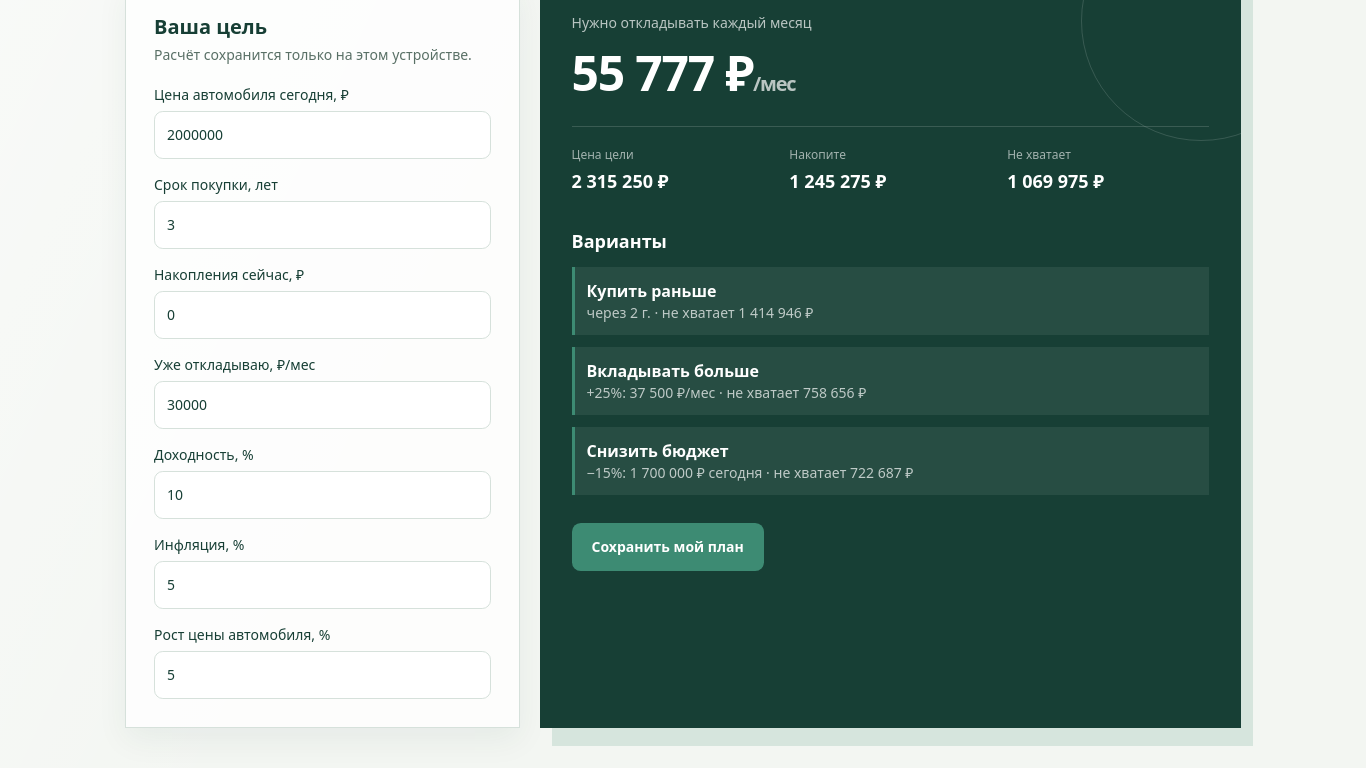
CarGoalWorkspace › keeps price growth tied to inflation until edited manually
(page scrolled)
Replace the text in the number field labelled "Инфляция, %" with "7" at point(322, 585), box [154,561,490,609]
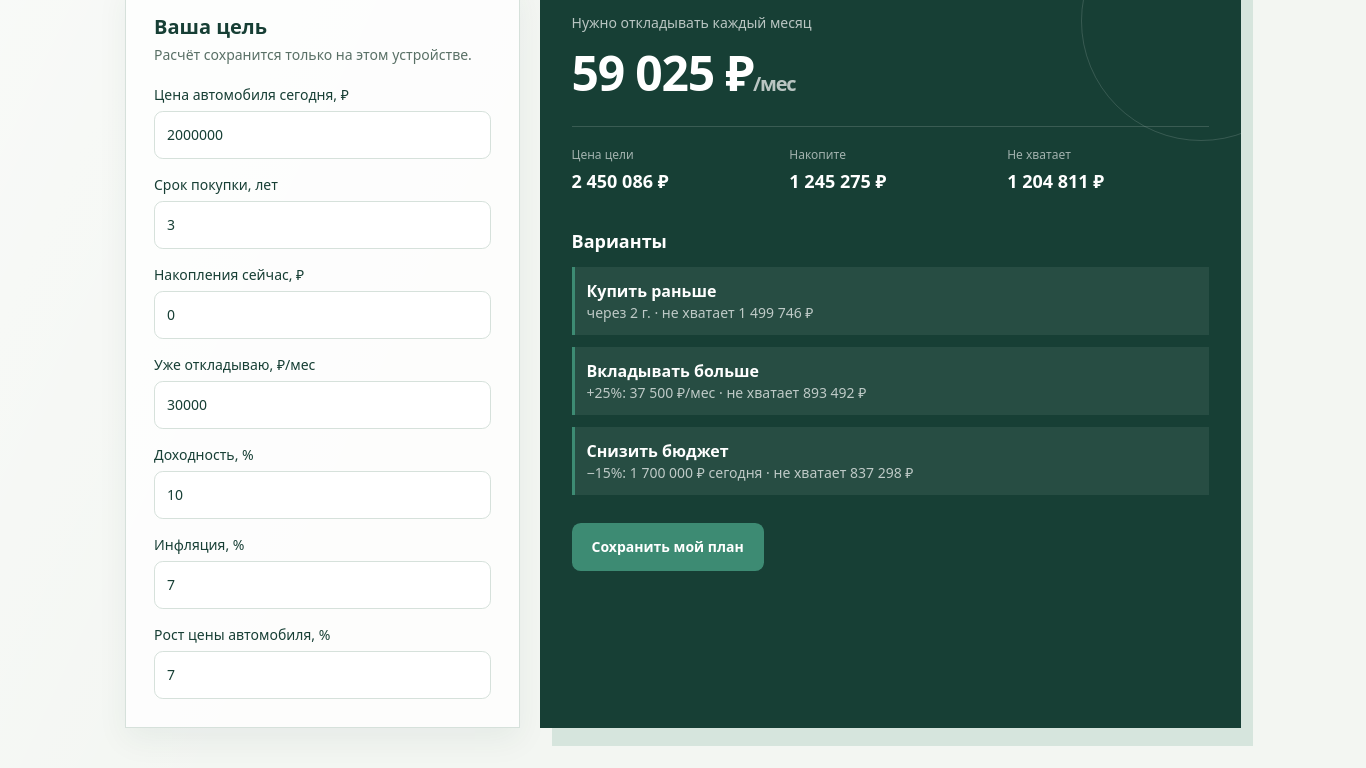
Expected: the number field labelled "Рост цены автомобиля, %" holds "7", [154,651,490,699]
